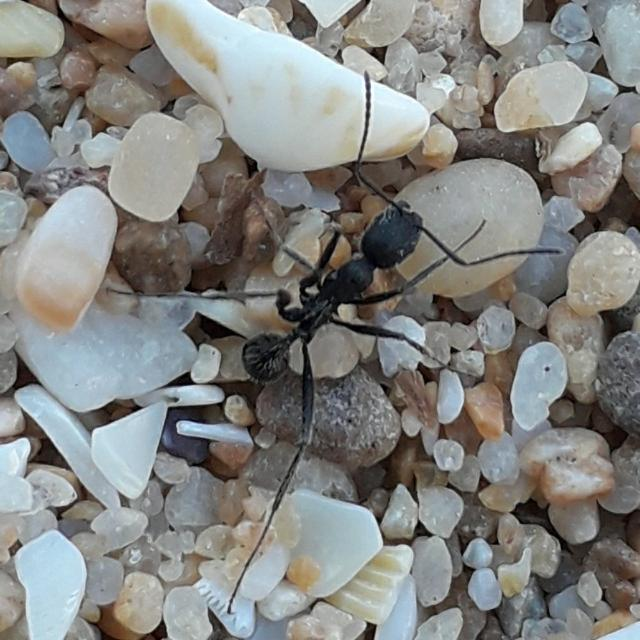Apheanogaster: (200, 154, 478, 426)
